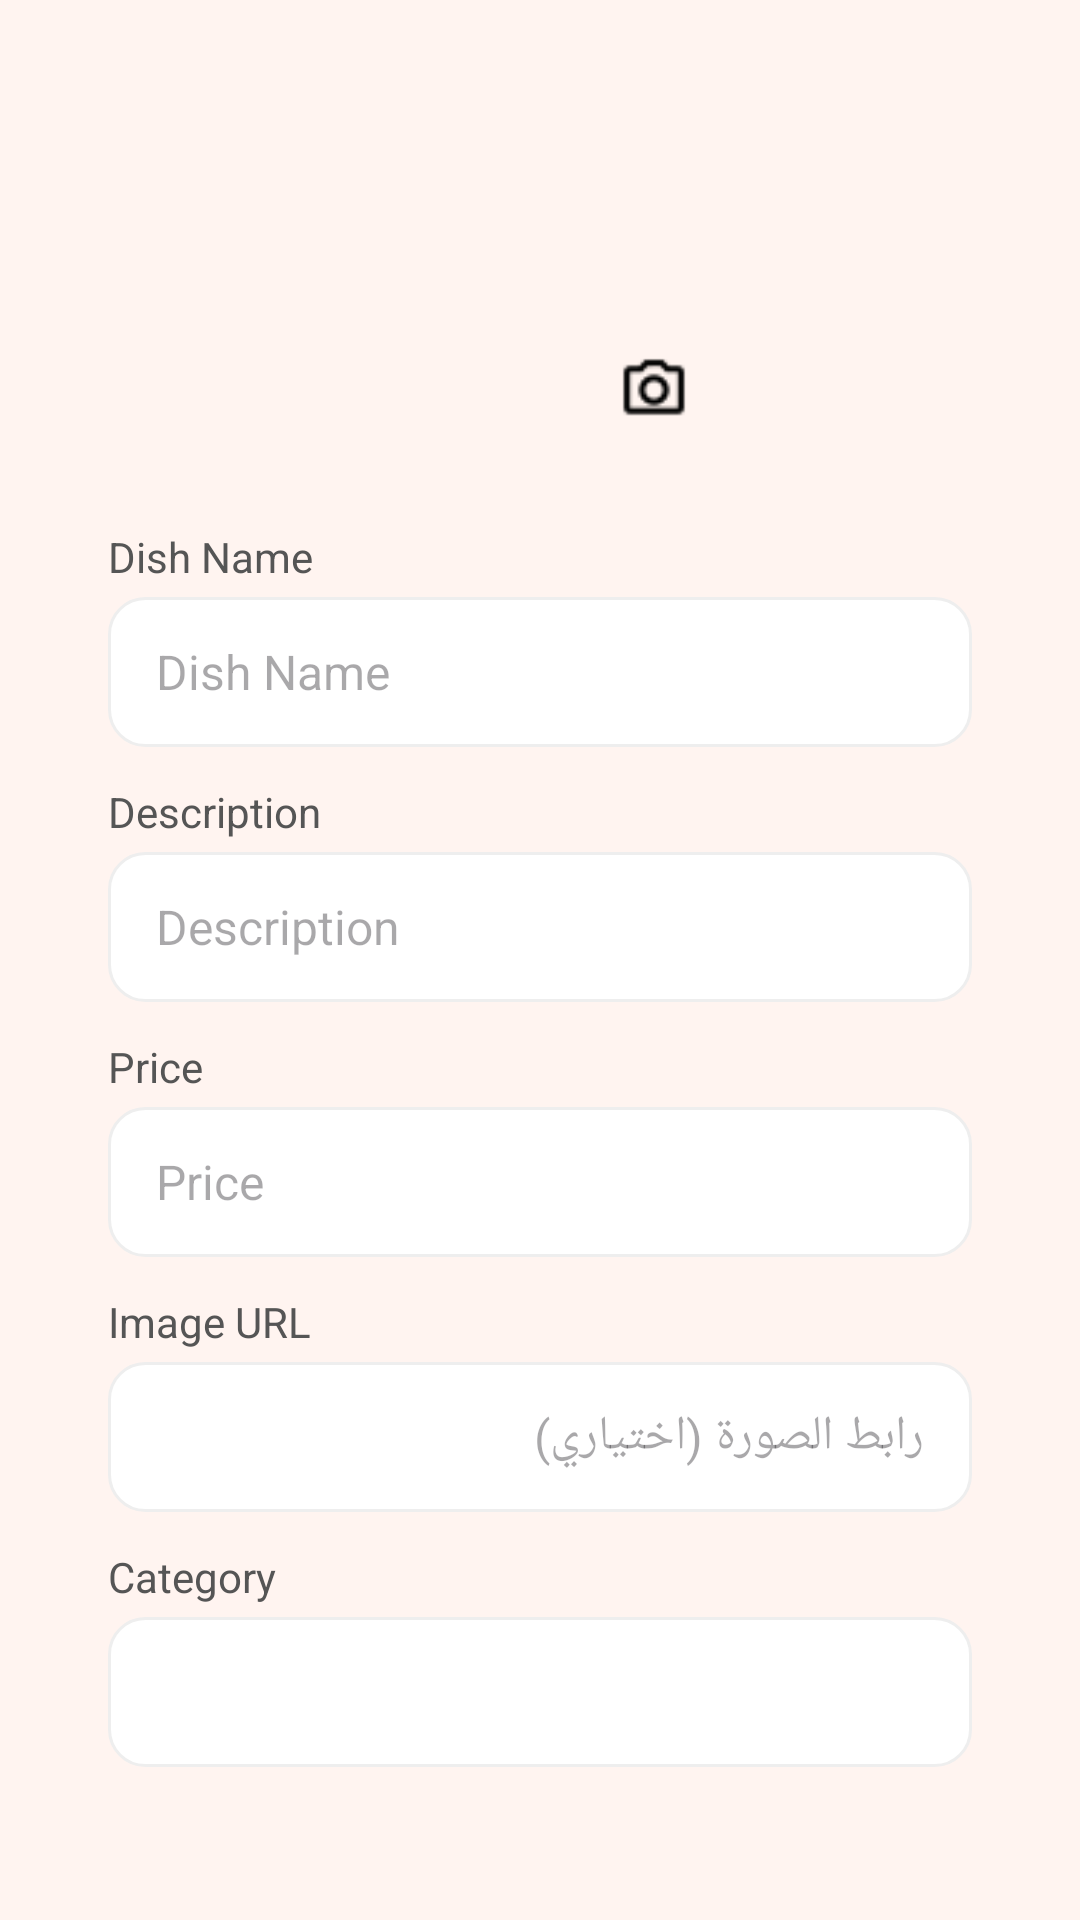

Icon click points for this 1080w x 1920h phone screenshot, format point (x, y):
camera: point (654, 387)
